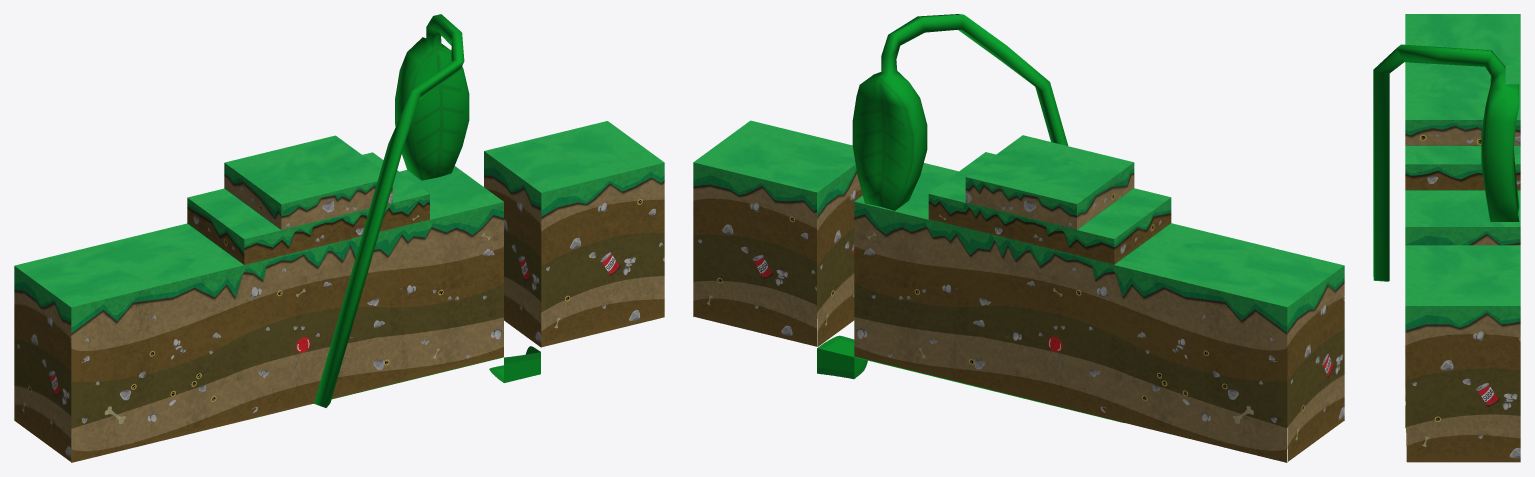
Rendered from level_2.fbx.
The picture shows the model from 3 angles, left to right: view 1: azimuth 30°, elevation 25°; view 2: azimuth 150°, elevation 25°; view 3: azimuth 270°, elevation 25°; orthographic projection.
Parts seen in each view (by area): view 1: main, platform_y_1; view 2: main, platform_y_1; view 3: main, platform_y_1.
Part boxes in pixels (bbox=[...]): main: bbox=[14, 121, 664, 462]; platform_y_1: bbox=[314, 14, 469, 407]; main: bbox=[693, 120, 1344, 462]; platform_y_1: bbox=[852, 14, 1068, 210]; main: bbox=[1405, 14, 1520, 462]; platform_y_1: bbox=[1373, 44, 1519, 281].
Size of the model in its own units: 24.01 by 13.3 by 5.11.
Materials: 1 (1 with a texture image).
